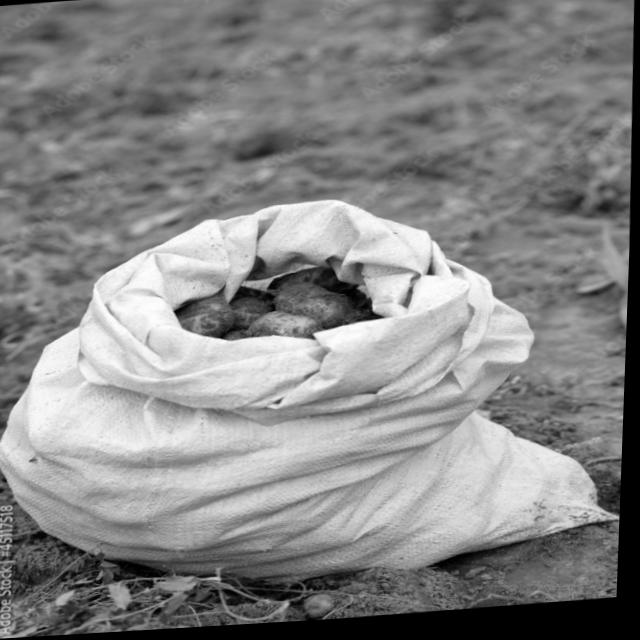sack: (0, 183, 634, 600)
